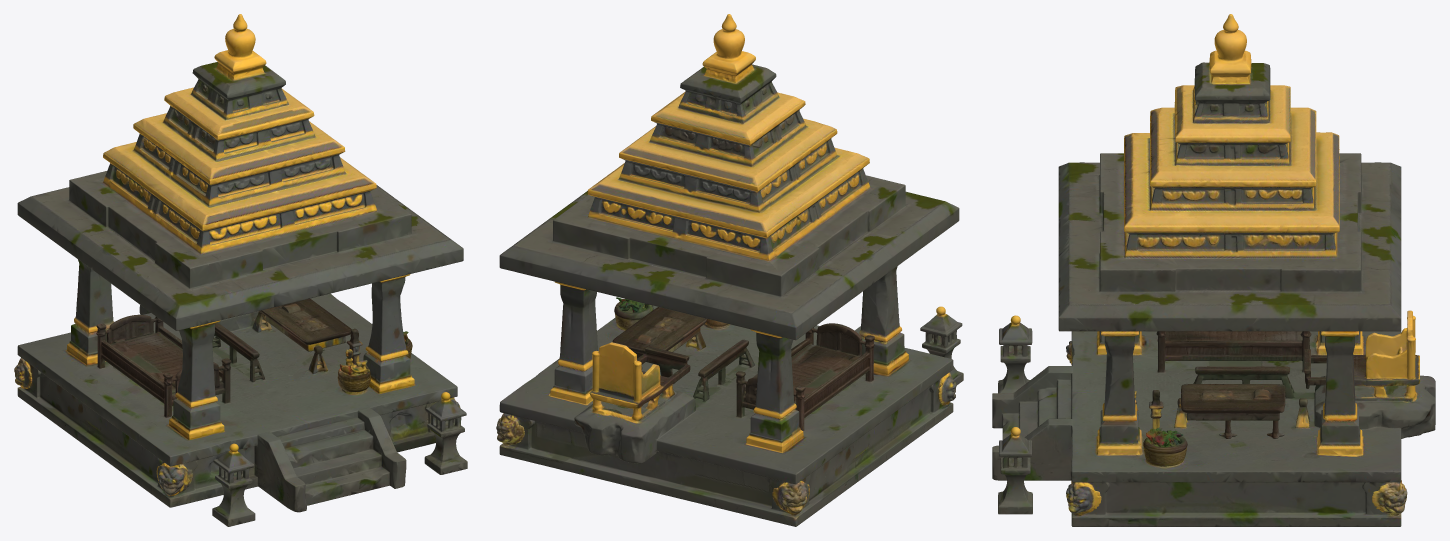
File: pendopo_lite.glb
3 views of the same model, side by side, from view 1: azimuth 30°, elevation 25°; view 2: azimuth 150°, elevation 25°; view 3: azimuth 270°, elevation 25° (orthographic). The views are drawn at different scales.
Size of the model in its own units: 1.47 by 1.9 by 1.75.
1 material, 1 textured.
